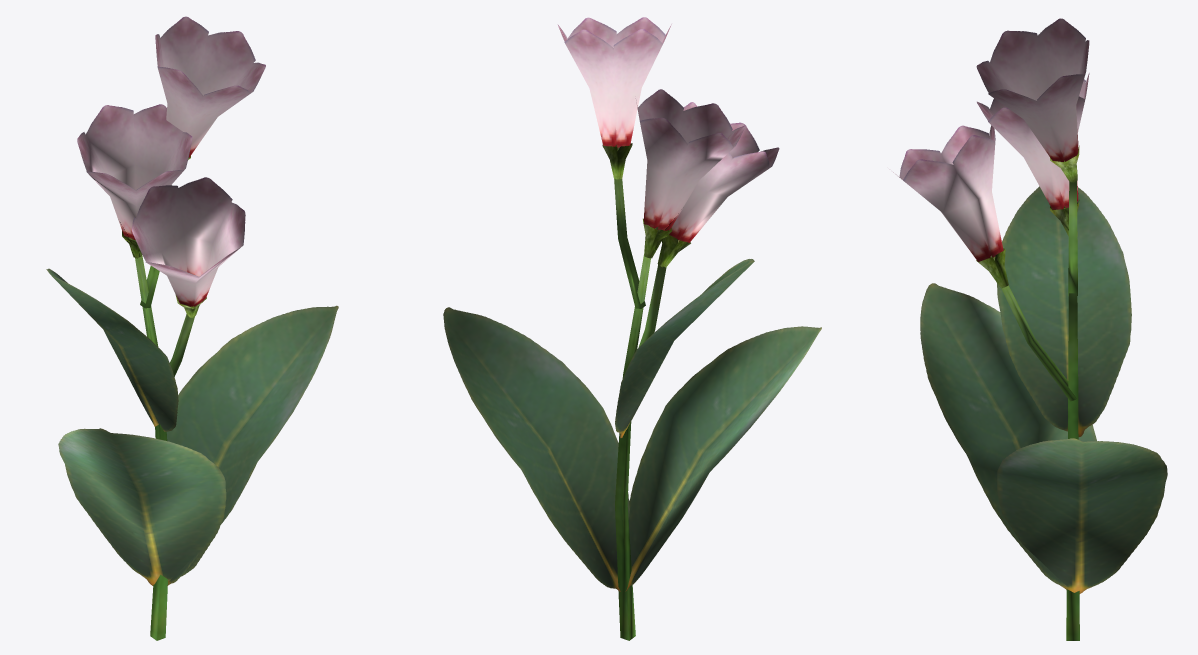
File: bellf2.obj
The picture shows the model from 3 angles, left to right: view 1: azimuth 30°, elevation 25°; view 2: azimuth 150°, elevation 25°; view 3: azimuth 270°, elevation 25°; orthographic projection.
Visible parts, largest first — view 1: bellflower02; view 2: bellflower02; view 3: bellflower02.
Boxes of the visible parts, <box> form: bellflower02: <box>46,16,338,640</box>; bellflower02: <box>443,17,821,640</box>; bellflower02: <box>889,18,1167,640</box>.
Size of the model in its own units: 26.83 by 43.41 by 20.3.
2 materials, 2 textured.
